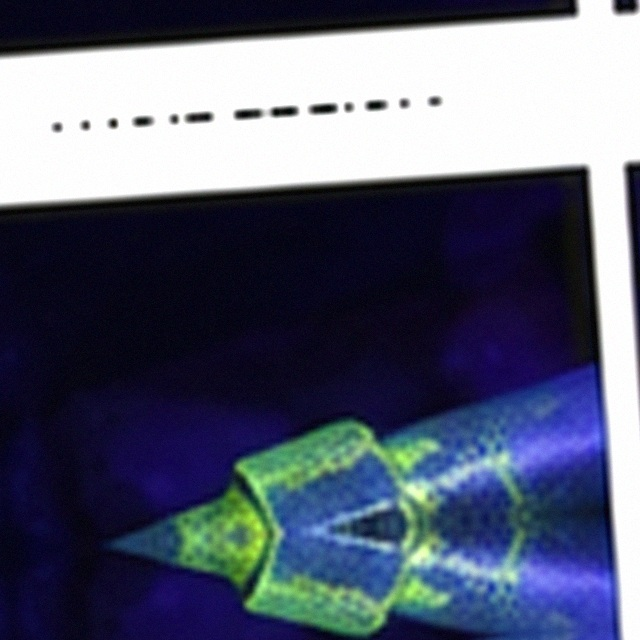hydraulic_oil_leak: (169, 420, 438, 599), (402, 494, 445, 552), (499, 468, 532, 538), (388, 557, 426, 593), (489, 442, 494, 454), (438, 497, 442, 504), (346, 527, 349, 530)
